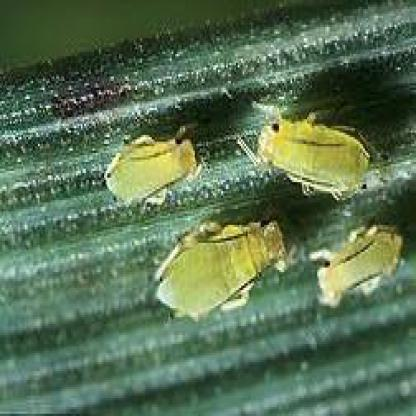schizaphis graminum: (152, 221, 287, 324), (240, 104, 369, 195), (106, 124, 200, 209), (318, 230, 404, 309)
